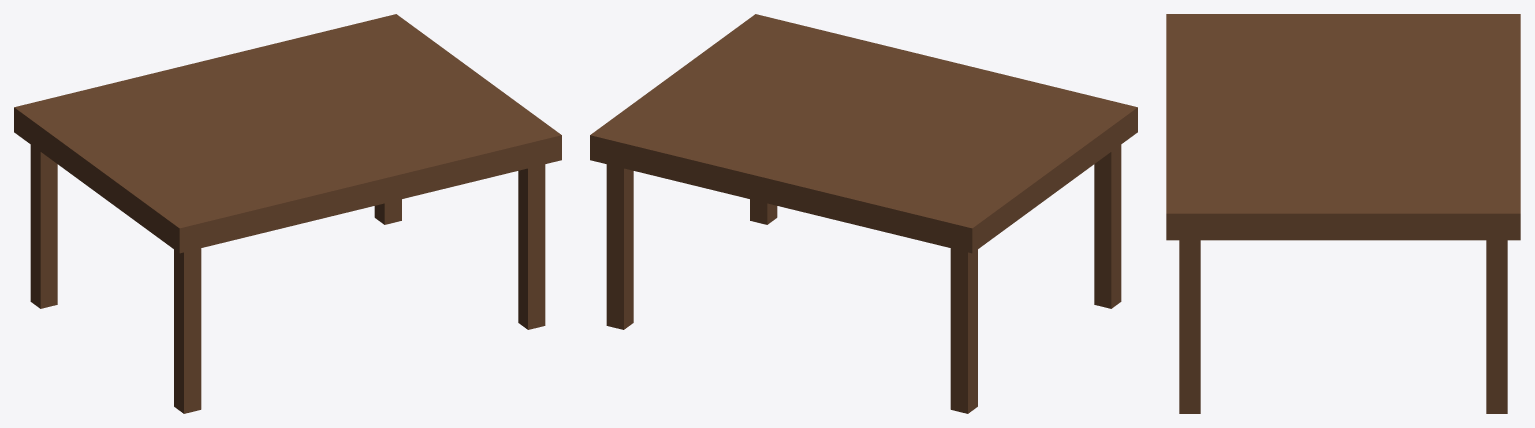
Rendered from observation-deck.source.glb.
3 renders of one model, left to right at view 1: azimuth 30°, elevation 25°; view 2: azimuth 150°, elevation 25°; view 3: azimuth 270°, elevation 25°, orthographic. The views are drawn at different scales.
Visible parts, largest first — view 1: observation-deck-platform-mesh, observation-deck-leg--1.8-1.3-mesh, observation-deck-leg-1.8-1.3-mesh, observation-deck-leg--1.8--1.3-mesh, observation-deck-leg-1.8--1.3-mesh; view 2: observation-deck-platform-mesh, observation-deck-leg--1.8--1.3-mesh, observation-deck-leg-1.8--1.3-mesh, observation-deck-leg--1.8-1.3-mesh, observation-deck-leg-1.8-1.3-mesh; view 3: observation-deck-platform-mesh, observation-deck-leg-1.8--1.3-mesh, observation-deck-leg-1.8-1.3-mesh.
Part boxes in pixels (x1,y1,x2,y2): observation-deck-platform-mesh: (14,14,561,253); observation-deck-leg--1.8-1.3-mesh: (174,248,201,413); observation-deck-leg-1.8-1.3-mesh: (518,164,545,329); observation-deck-leg--1.8--1.3-mesh: (30,145,57,308); observation-deck-leg-1.8--1.3-mesh: (374,199,401,224); observation-deck-platform-mesh: (590,14,1137,253); observation-deck-leg--1.8--1.3-mesh: (950,248,977,413); observation-deck-leg-1.8--1.3-mesh: (606,164,633,329); observation-deck-leg--1.8-1.3-mesh: (1094,145,1121,308); observation-deck-leg-1.8-1.3-mesh: (750,199,777,224); observation-deck-platform-mesh: (1166,14,1520,240); observation-deck-leg-1.8--1.3-mesh: (1486,240,1507,413); observation-deck-leg-1.8-1.3-mesh: (1179,240,1200,413).
Size of the model in its own units: 4 by 1.92 by 3.
